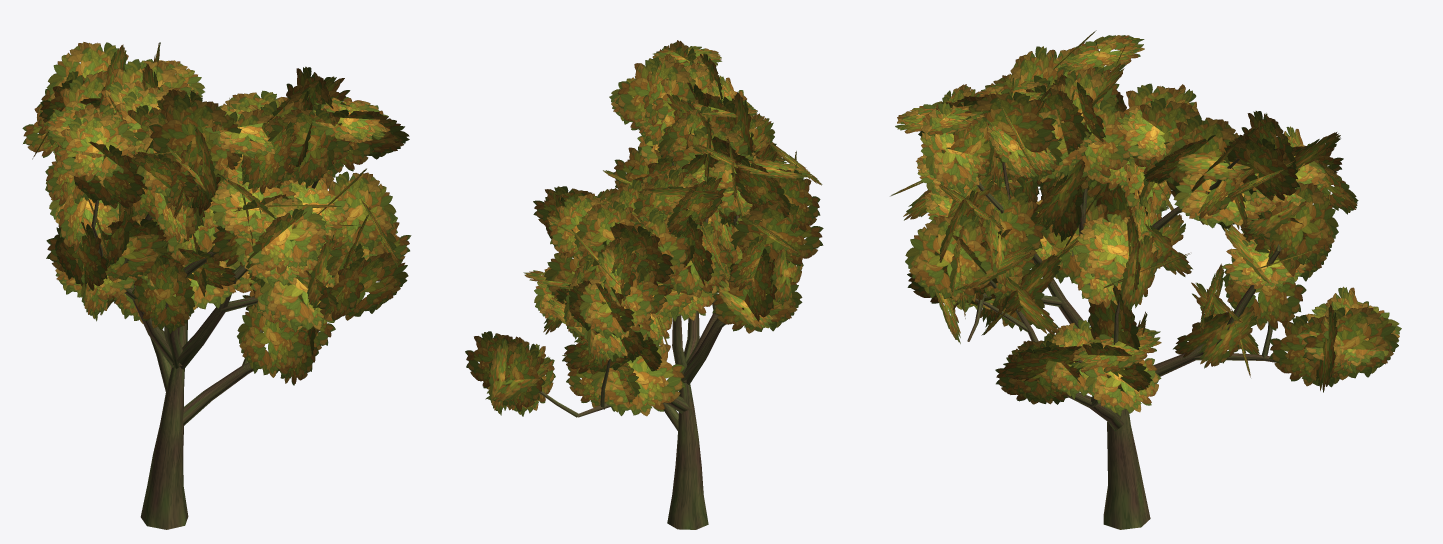
The model's file is tree_broad2.glb.
3 renders of one model, left to right at view 1: azimuth 30°, elevation 25°; view 2: azimuth 150°, elevation 25°; view 3: azimuth 270°, elevation 25°, orthographic. The views are drawn at different scales.
Parts seen in each view (by area): view 1: tree_broad2; view 2: tree_broad2; view 3: tree_broad2.
Boxes of the visible parts, box(x1,y1,x2,y2) form: tree_broad2: box(22, 42, 411, 529); tree_broad2: box(465, 40, 823, 529); tree_broad2: box(890, 30, 1401, 529).
Bounding box in the file's own units: 5.87 × 8 × 8.39.
2 materials, 2 textured.
